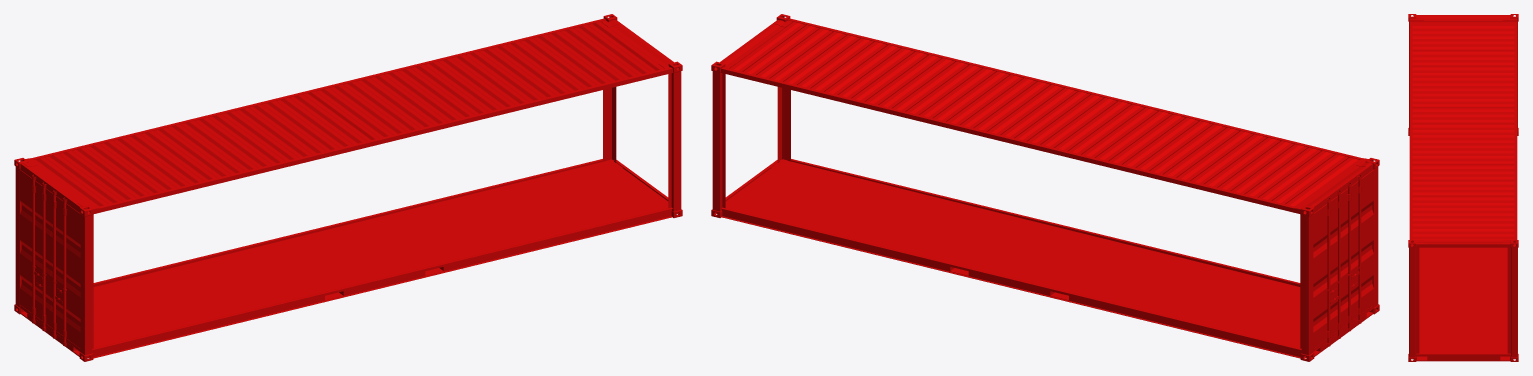
File: container-shell.glb
3 views of the same model, side by side, from view 1: azimuth 30°, elevation 25°; view 2: azimuth 150°, elevation 25°; view 3: azimuth 270°, elevation 25° (orthographic). The views are drawn at different scales.
Parts seen in each view (by area): view 1: object 4, object 5; view 2: object 4, object 5; view 3: object 4.
Part boxes in pixels (box(x1,y1,x2,y2)): object 4: box(14, 14, 682, 361); object 5: box(92, 159, 672, 358); object 4: box(711, 14, 1379, 361); object 5: box(721, 159, 1301, 358); object 4: box(1408, 14, 1518, 361).
Bounding box in the file's own units: 12.03 × 2.9 × 2.44.
